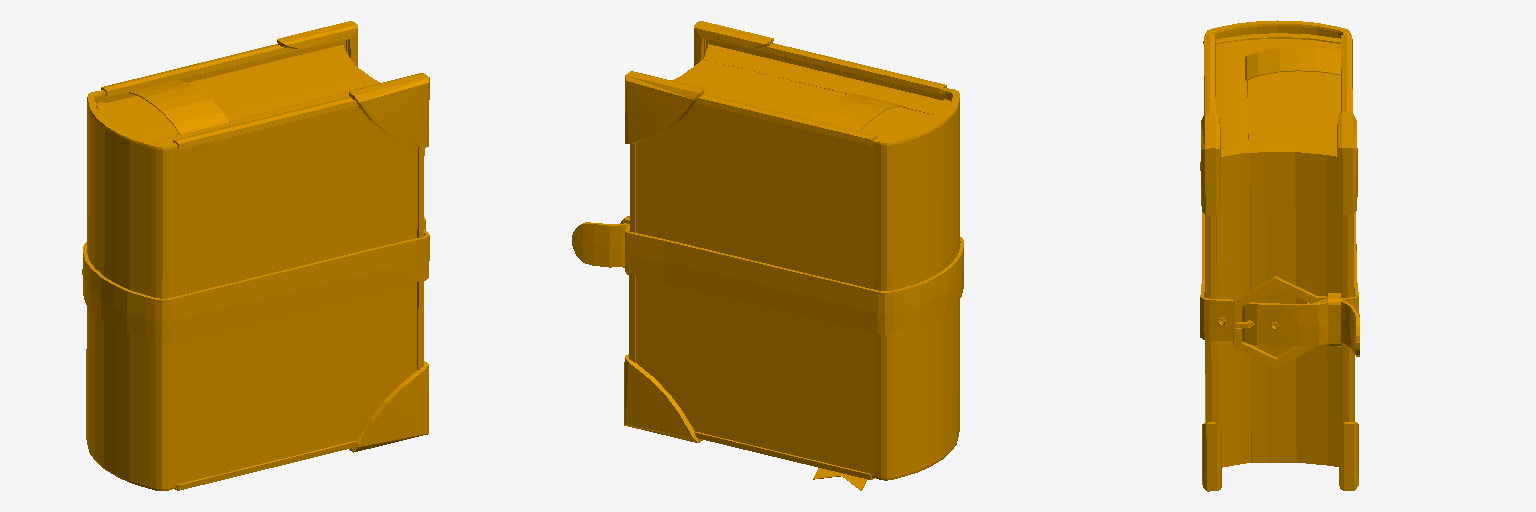
robot.urdf — mesh_object:
<robot name="mesh_object">
            <link name="base">
                <visual>
                    <geometry>
                        <mesh filename="Bible_1.obj" scale="1 1 1" />
                    </geometry>
                </visual>
                <collision>
                    <geometry>
                        <mesh filename="Bible_1.obj" scale="1 1 1" />
                    </geometry>
                </collision>
                <inertial>
                    <origin xyz="0.000000 0.000000 0.030354" rpy="0 0 0" />
                    <mass value="0.5" />
                    <inertia ixx="0.01" iyy="0.01" izz="0.01" ixy="0" ixz="0" iyz="0" />
                </inertial>
            </link>
            </robot>

--- What the picture shows (computed from the rendered views, not written in the file) ---
Views: 3 orthographic renders of the robot side by side, from view 1: azimuth 30°, elevation 25°; view 2: azimuth 150°, elevation 25°; view 3: azimuth 270°, elevation 25°.
Model mesh_object with 1 links and 0 joints (none), rooted at base, posed all joints at 0.
Visible links, largest first — view 1: base; view 2: base; view 3: base.
Boxes of the visible links, <box> form: base: <box>82,21,429,490</box>; base: <box>572,21,963,490</box>; base: <box>1200,20,1359,491</box>.
Size in the robot's own frame: 0.1436 by 0.0607 by 0.1523 metres.
Meshes: 1 distinct files referenced, 1 mesh visuals loaded (1 OBJ).
